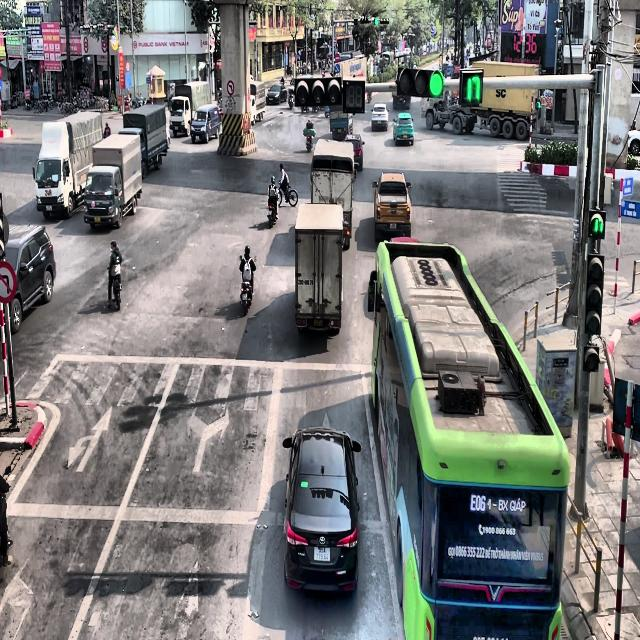BUS: (368, 236, 570, 639)
CAR: (282, 426, 361, 596), (0, 223, 56, 335), (372, 171, 411, 243), (190, 104, 220, 144), (392, 111, 414, 146), (344, 133, 364, 171), (371, 103, 389, 132), (266, 84, 286, 104)
MOTORBIKE: (239, 255, 256, 315), (107, 261, 122, 310), (278, 181, 298, 207), (267, 192, 279, 228)
TRAFFIC_LIGHT: (584, 252, 604, 336), (396, 66, 444, 98), (459, 67, 483, 106), (588, 208, 606, 240), (374, 16, 389, 25), (374, 17, 378, 26)
TRUCK: (32, 111, 103, 219), (83, 132, 142, 228), (122, 103, 169, 179), (168, 80, 211, 137), (250, 77, 266, 124)
